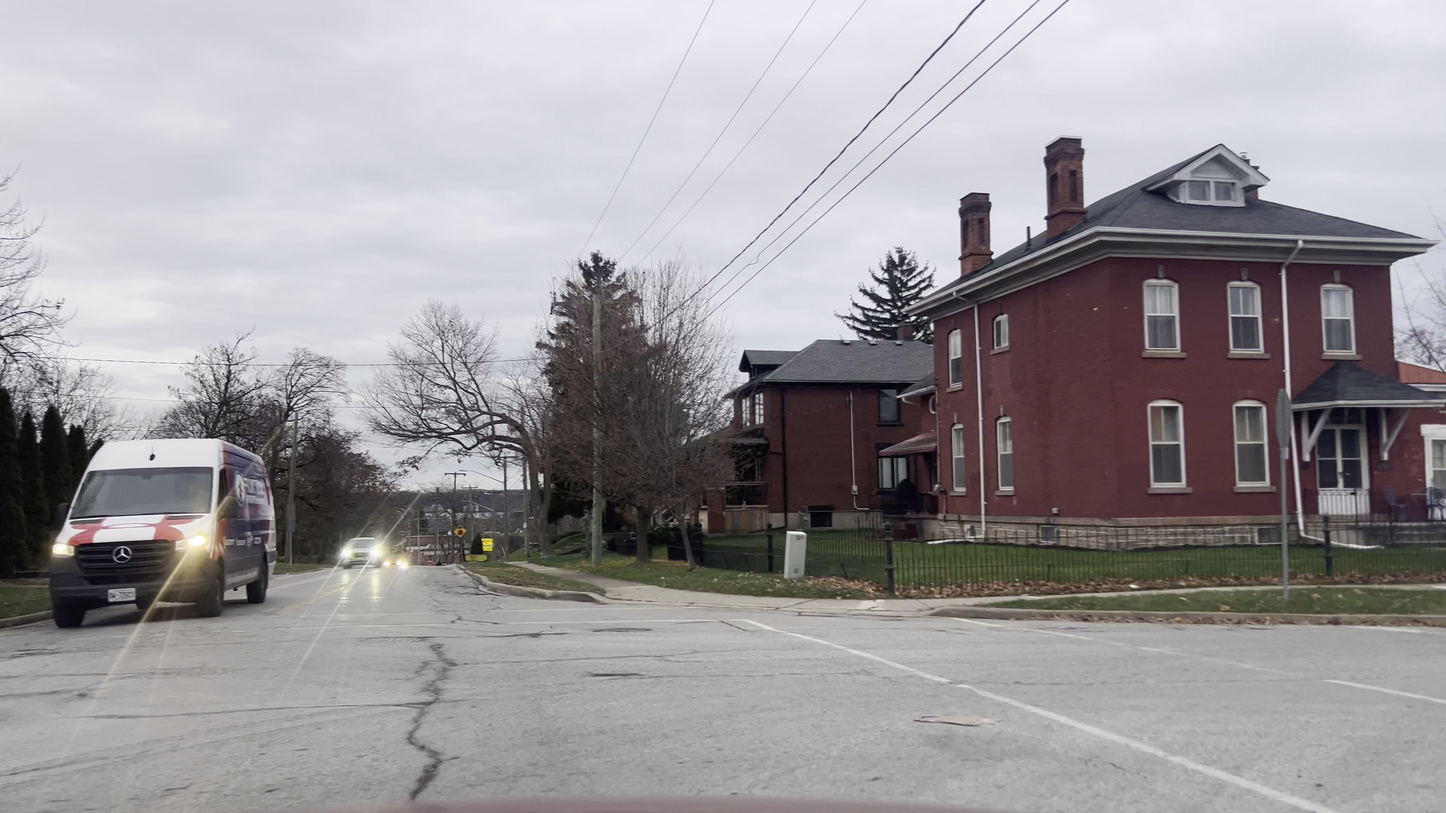cracks: (398, 695, 445, 799), (585, 660, 662, 687), (913, 716, 994, 735), (424, 647, 462, 686)
